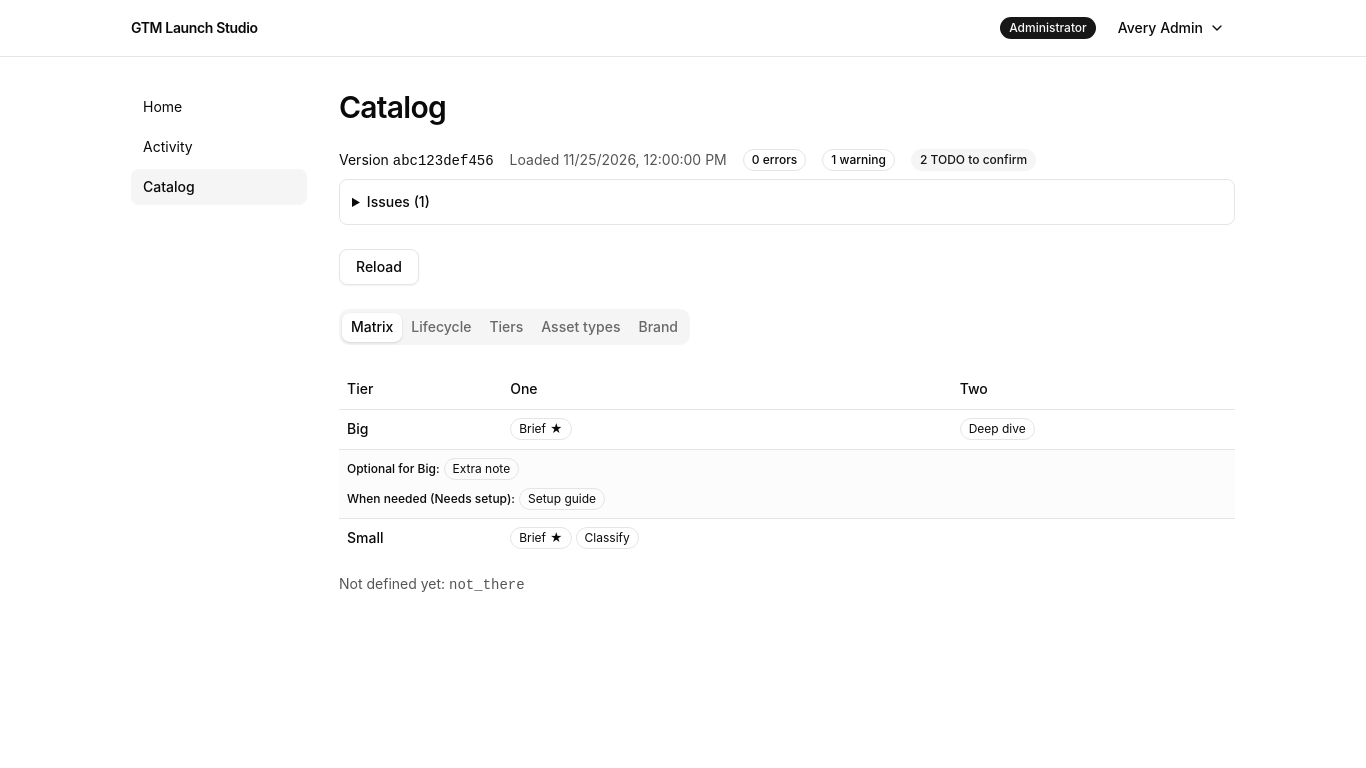
CatalogPage › tabs › Brand shows the guidance, the terminology tables and the colour swatches
The image size is (1366, 768).
Check: the heading "Catalog" is shown, box [339, 89, 446, 125]
Click the tab "Brand".
click(658, 327)  # box [630, 312, 687, 342]
(page scrolled)
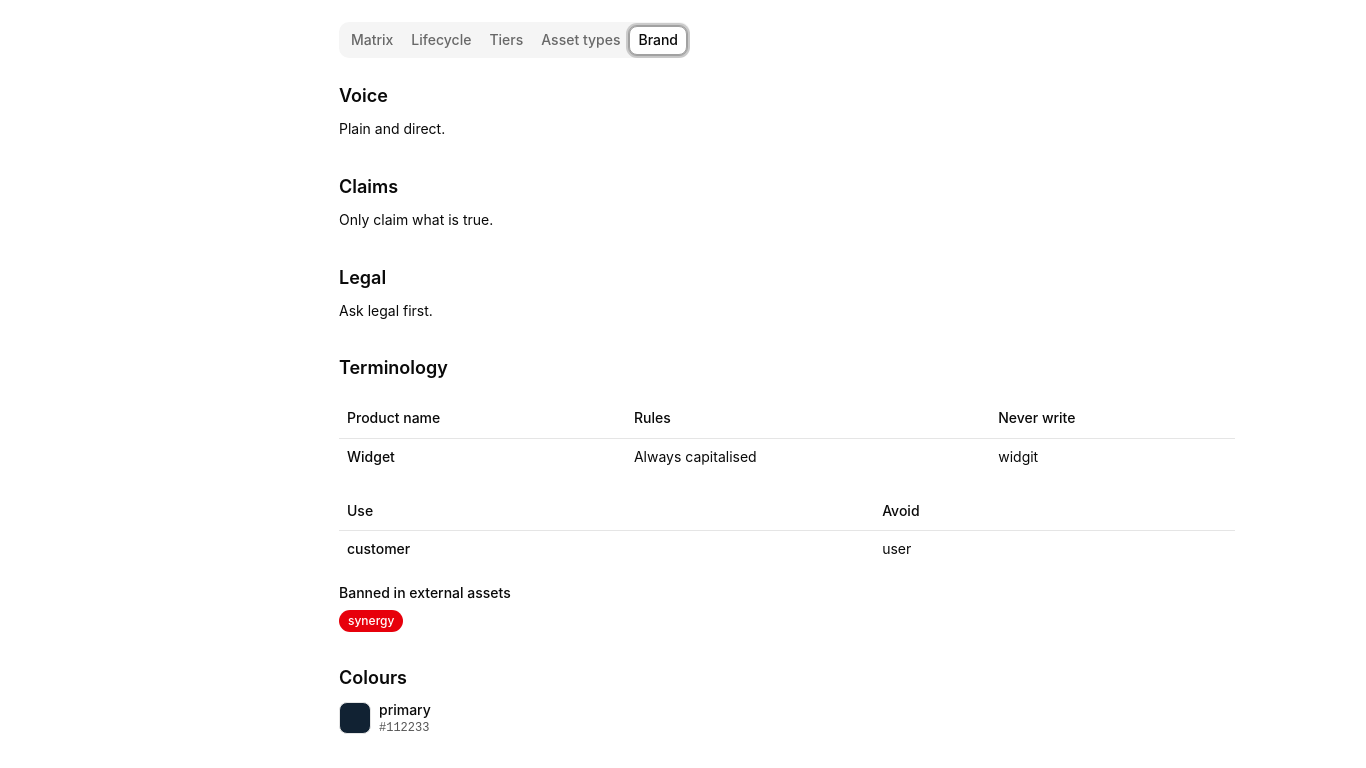
Check: the text "Plain and direct." is shown, box [339, 120, 445, 137]
Check: the text "Only claim what is true." is shown, box [339, 211, 493, 228]
Check: the text "Ask legal first." is shown, box [339, 302, 433, 318]
